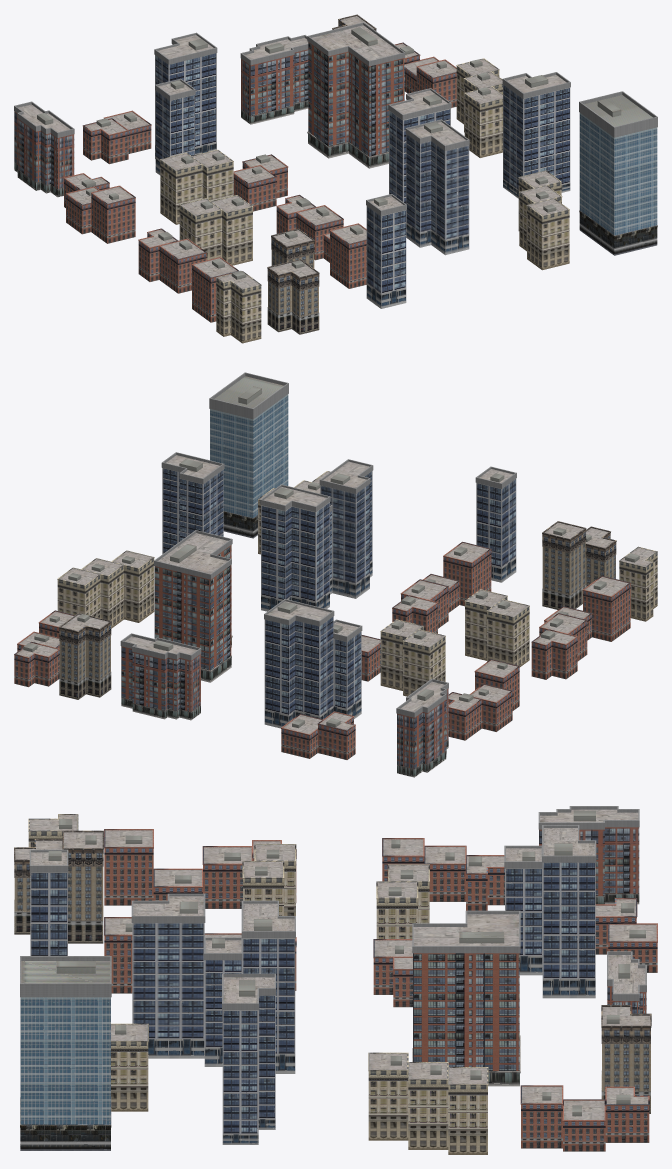
File: Buildings_FV.obj
3 views of the same model, one above another, from view 1: azimuth 30°, elevation 25°; view 2: azimuth 150°, elevation 25°; view 3: azimuth 270°, elevation 25° (orthographic). The views are drawn at different scales.
Parts seen in each view (by area): view 1: Building_271_2, building_of_type_6_2, Building_013_2, Building_272_2, Building_308_2, Building_295_2, Building_263_2, Building_296_2, Building_287_2, Building_274_2, building_of_type_6_1, Building_304_2 (+42 smaller); view 2: building_of_type_6_2, Building_295_2, Building_271_2, Building_274_2, Building_013_2, Building_272_2, Building_263_2, Building_308_2, Building_287_2, Building_296_2, Building_264_2, Building_305_2 (+36 smaller); view 3: Building_271_2, building_of_type_6_2, Building_272_2, Building_013_2, Building_295_2, Building_274_2, Building_308_2, Building_296_2, building_of_type_6_1, Building_287_2, Building_264_2, Building_271_4 (+79 smaller).
Boxes of the visible parts, x1,y1,x2,y2 form: Building_271_2: [308, 42, 404, 156]; building_of_type_6_2: [579, 113, 657, 235]; Building_013_2: [503, 84, 570, 189]; Building_272_2: [406, 134, 469, 239]; Building_308_2: [366, 206, 406, 293]; Building_295_2: [155, 44, 216, 147]; Building_263_2: [241, 62, 308, 116]; Building_296_2: [155, 91, 194, 159]; Building_287_2: [14, 124, 74, 188]; Building_274_2: [389, 108, 450, 203]; building_of_type_6_1: [579, 210, 657, 255]; Building_304_2: [268, 281, 318, 317]; building_of_type_6_2: [210, 394, 288, 517]; Building_295_2: [264, 616, 333, 716]; Building_271_2: [154, 545, 231, 670]; Building_274_2: [261, 502, 329, 601]; Building_013_2: [162, 468, 223, 553]; Building_272_2: [320, 471, 372, 583]; Building_263_2: [121, 659, 200, 711]; Building_308_2: [476, 478, 516, 567]; Building_287_2: [397, 701, 448, 768]; Building_296_2: [333, 631, 361, 709]; Building_264_2: [59, 635, 110, 682]; Building_305_2: [542, 542, 585, 595]; Building_271_2: [413, 953, 519, 1070]; building_of_type_6_2: [20, 997, 110, 1124]; Building_272_2: [132, 923, 204, 1038]; Building_013_2: [222, 995, 275, 1134]; Building_295_2: [542, 862, 595, 978]; Building_274_2: [242, 938, 295, 1054]; Building_308_2: [30, 872, 67, 955]; Building_296_2: [505, 868, 542, 955]; building_of_type_6_1: [20, 1097, 111, 1150]; Building_287_2: [595, 843, 639, 895]; Building_264_2: [602, 1044, 650, 1091]; Building_271_4: [413, 914, 518, 945].
Size of the model in its own units: 873 by 255 by 876.
